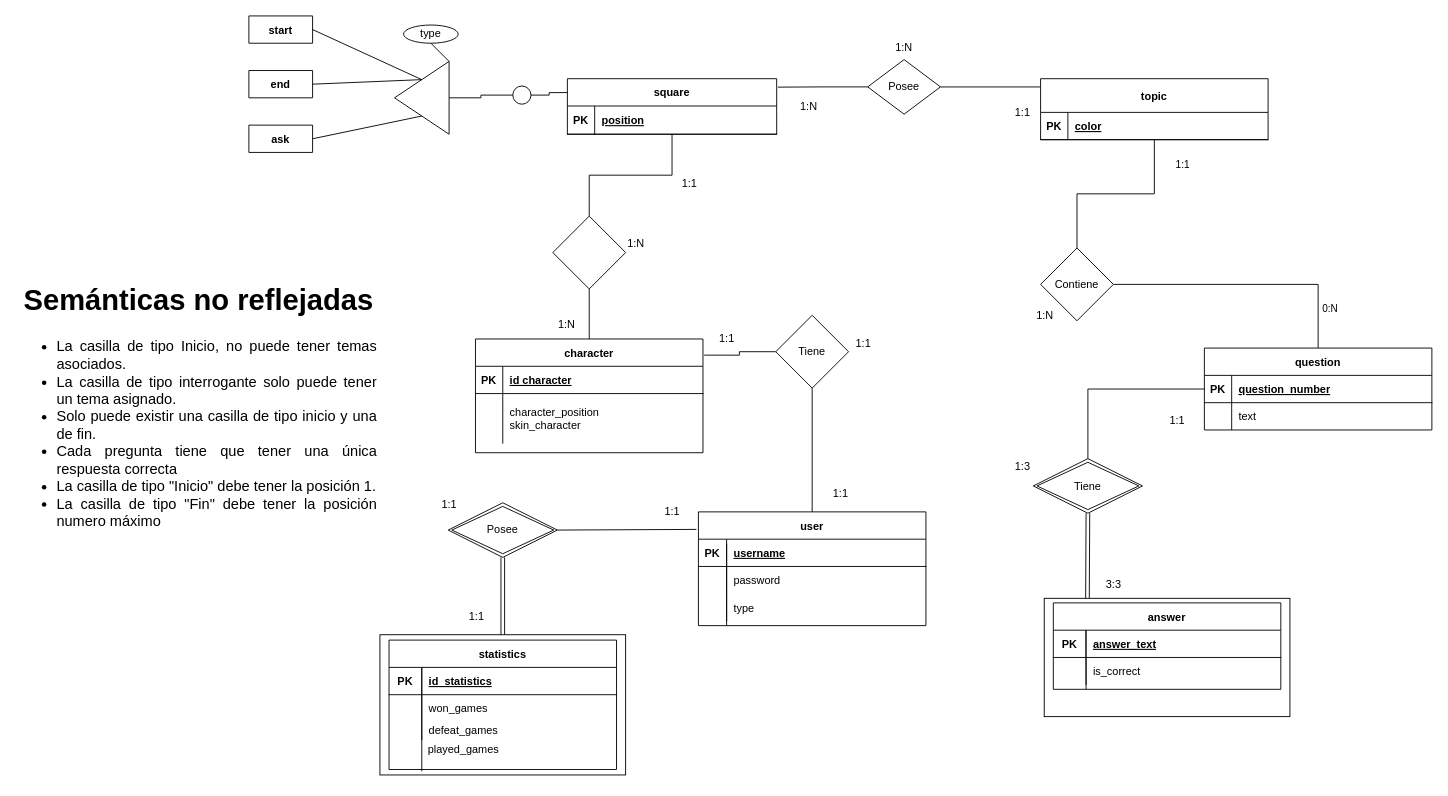
Image size: 1448x796. Some labels were removed from this diagram. The centre of each missing label's shape, as x and y in pixels:
"Es" belongs at pixel 421 97.
"Está" belongs at pixel 589 252.
